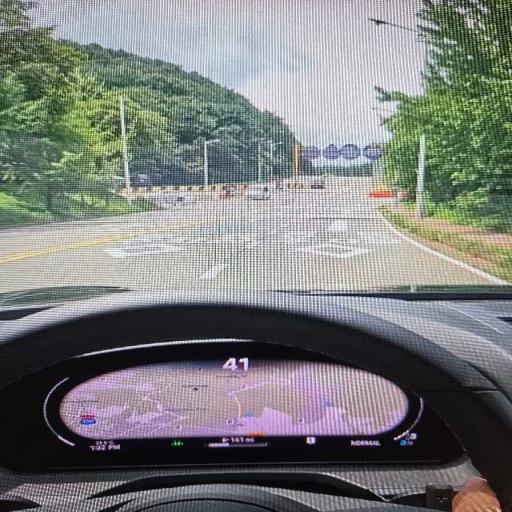car: (0, 288, 511, 511), (156, 191, 194, 209), (244, 184, 271, 200), (310, 178, 325, 189)
lane: (0, 179, 490, 290)
person: (452, 477, 500, 511)
